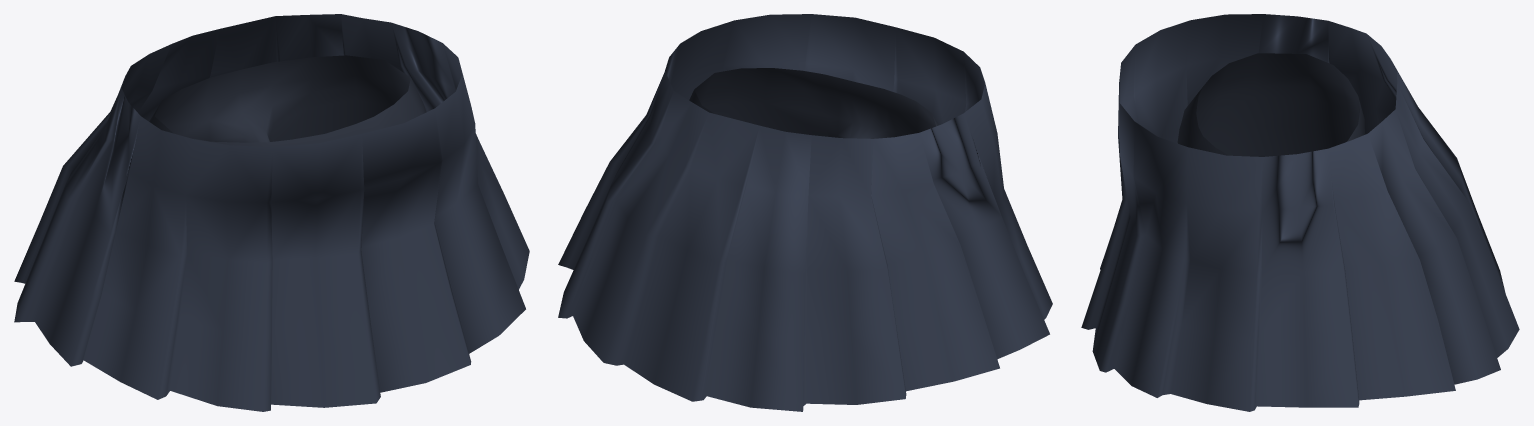
Rendered from sailor-girl-skirt.glb.
3 views of the same model, side by side, from view 1: azimuth 30°, elevation 25°; view 2: azimuth 150°, elevation 25°; view 3: azimuth 270°, elevation 25° (orthographic). The views are drawn at different scales.
Parts seen in each view (by area): view 1: Sailor_skirt; view 2: Sailor_skirt; view 3: Sailor_skirt.
Part boxes in pixels (x1,y1,x2,y2): Sailor_skirt: [14, 14, 529, 411]; Sailor_skirt: [558, 14, 1052, 411]; Sailor_skirt: [1081, 14, 1519, 411].
Bounding box in the file's own units: 1.17 × 0.6102 × 0.9799.
